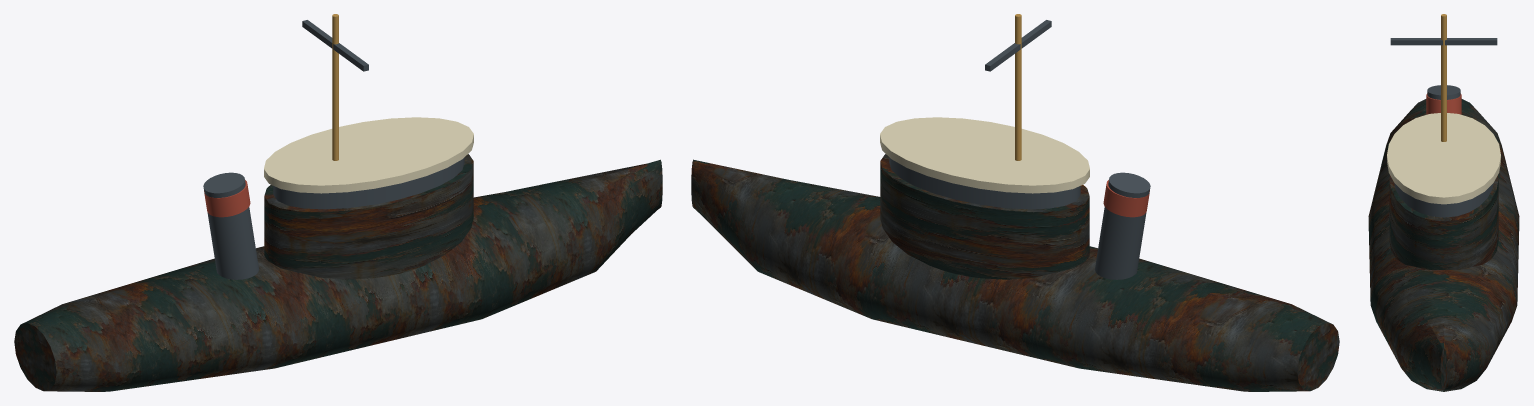
Rendered from harbor-launch.glb.
3 renders of one model, left to right at view 1: azimuth 30°, elevation 25°; view 2: azimuth 150°, elevation 25°; view 3: azimuth 270°, elevation 25°, orthographic. The views are drawn at different scales.
Visible parts, largest first — view 1: Наборный корпус, Броневая рубка, Козырёк мостика, Дымовая труба, Лента остекления, Фок-мачта, Марка флотилии, Рея; view 2: Наборный корпус, Броневая рубка, Козырёк мостика, Дымовая труба, Лента остекления, Фок-мачта, Марка флотилии, Рея; view 3: Наборный корпус, Козырёк мостика, Броневая рубка, Лента остекления, Рея, Фок-мачта, Марка флотилии, Дымовая труба.
Boxes of the visible parts, x1,y1,x2,y2 form: Наборный корпус: (14,159,662,391); Броневая рубка: (264,154,473,279); Козырёк мостика: (264,117,473,193); Дымовая труба: (203,172,258,279); Лента остекления: (273,157,464,209); Фок-мачта: (332,14,338,160); Марка флотилии: (204,180,250,217); Рея: (302,20,368,71); Наборный корпус: (691,159,1339,391); Броневая рубка: (880,154,1089,279); Козырёк мостика: (880,117,1089,193); Дымовая труба: (1095,172,1150,279); Лента остекления: (889,157,1080,209); Фок-мачта: (1015,14,1021,160); Марка флотилии: (1103,180,1149,217); Рея: (985,20,1051,71); Наборный корпус: (1368,99,1519,391); Козырёк мостика: (1387,113,1500,204); Броневая рубка: (1389,175,1498,269); Лента остекления: (1394,183,1493,217); Рея: (1390,38,1497,45); Фок-мачта: (1441,14,1446,141); Марка флотилии: (1426,93,1461,114); Дымовая труба: (1427,85,1460,99).
Size of the model in its own units: 15 by 7.45 by 3.6.
5 materials, 1 textured.
